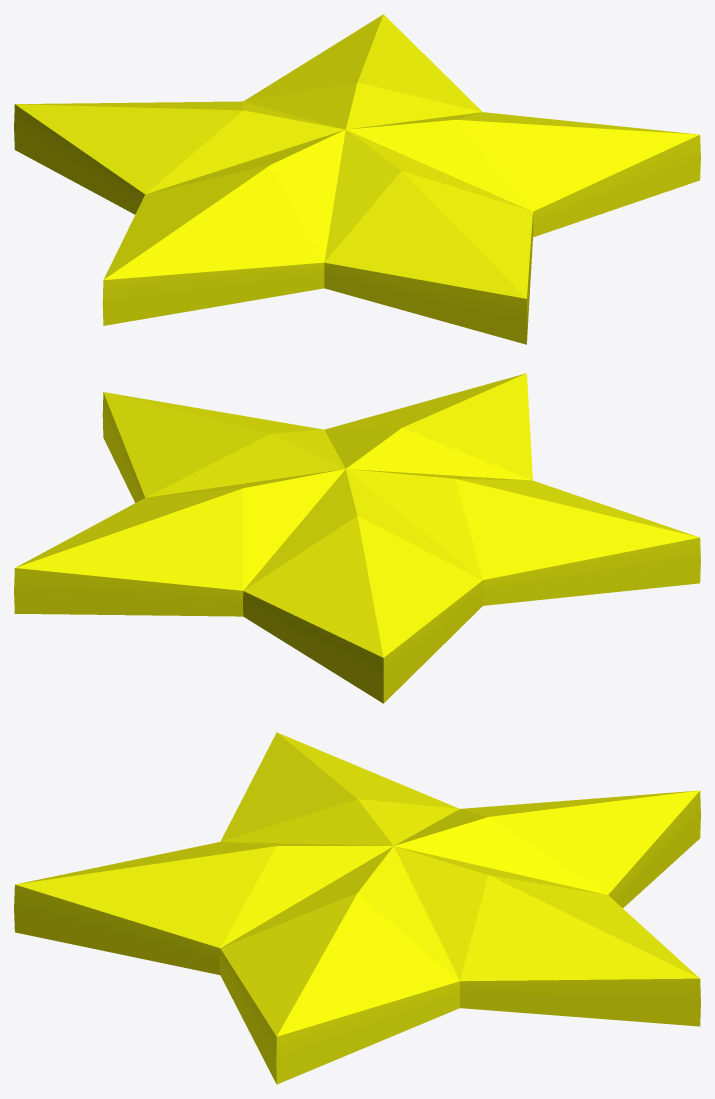
Rendered from StarCoin.fbx.
3 views of the same model, one above another, from view 1: azimuth 30°, elevation 25°; view 2: azimuth 150°, elevation 25°; view 3: azimuth 270°, elevation 25° (orthographic). The views are drawn at different scales.
Visible parts, largest first — view 1: StarCoin; view 2: StarCoin; view 3: StarCoin.
Part boxes in pixels (x1,y1,x2,y2): StarCoin: (14,14,700,344); StarCoin: (14,373,700,703); StarCoin: (14,732,700,1084).
Size of the model in its own units: 235 by 44.94 by 223.
